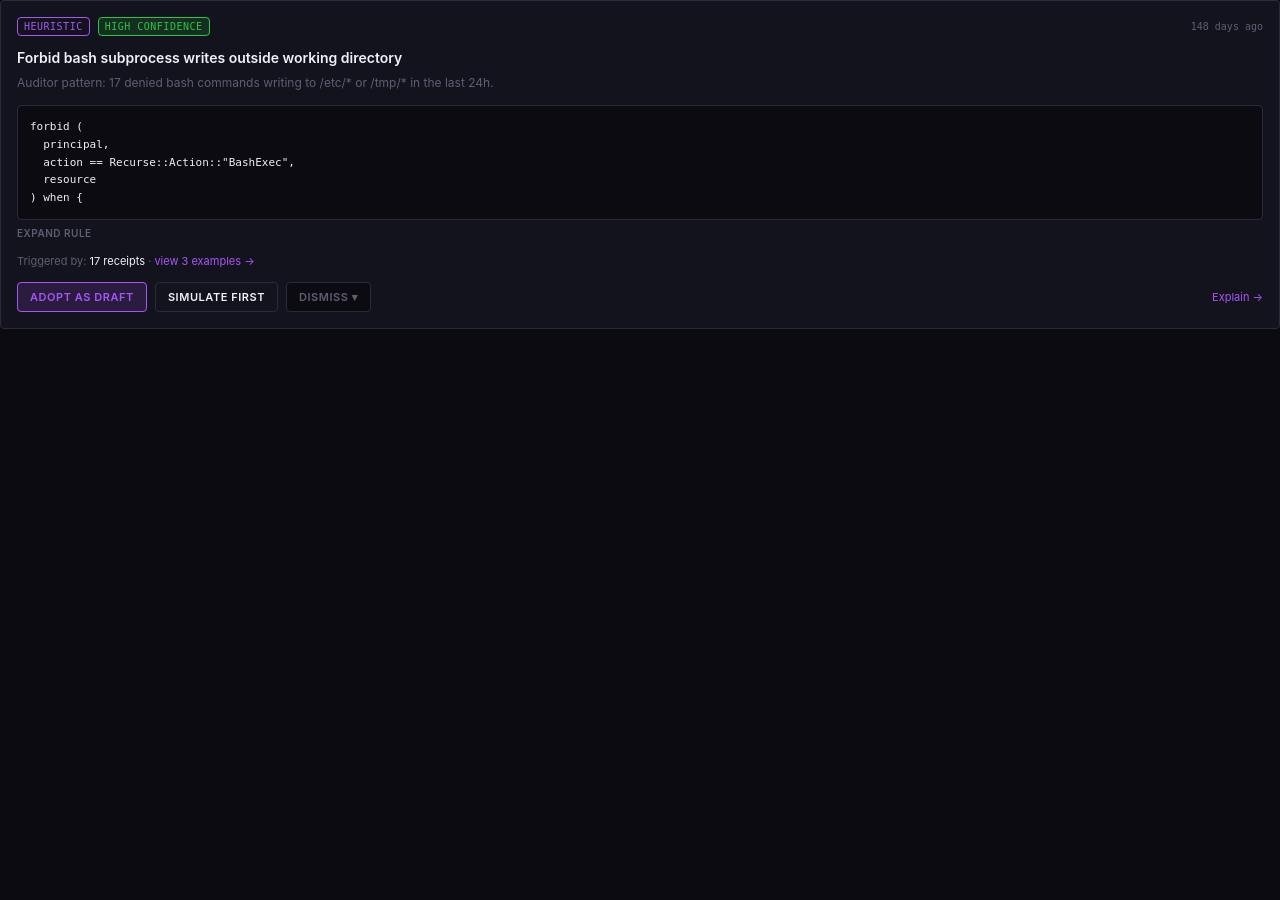
it: SuggestionCard triggered-by › popover closes when Escape is pressed (F004 + F007 keyboard a11y)
Click the button with test id "suggestion-triggered-by-toggle" at (205, 261), box [154,253,255,270]
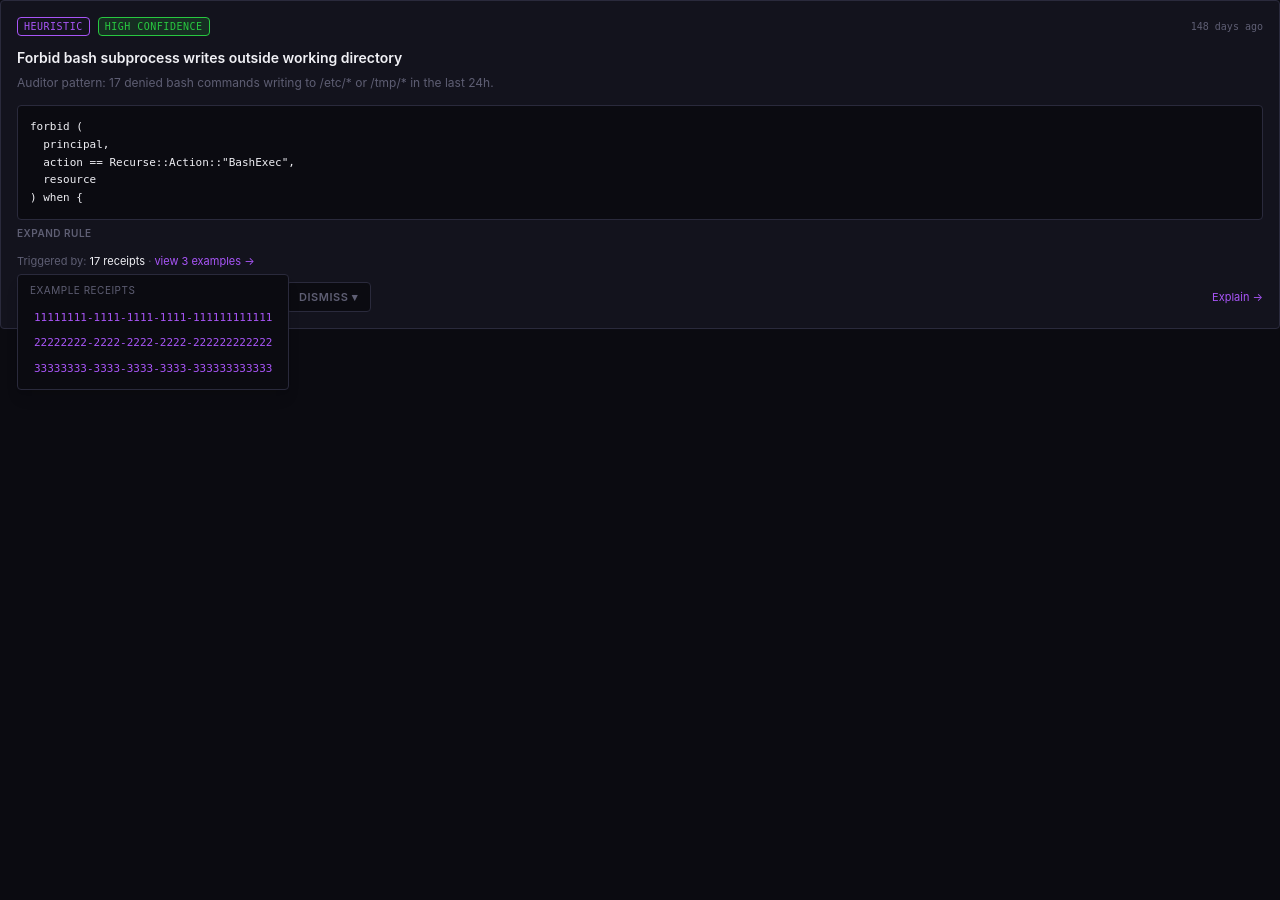
expect the dialog with test id "suggestion-triggered-by-popover" is shown: met, box [17,274,289,390]
Press Escape
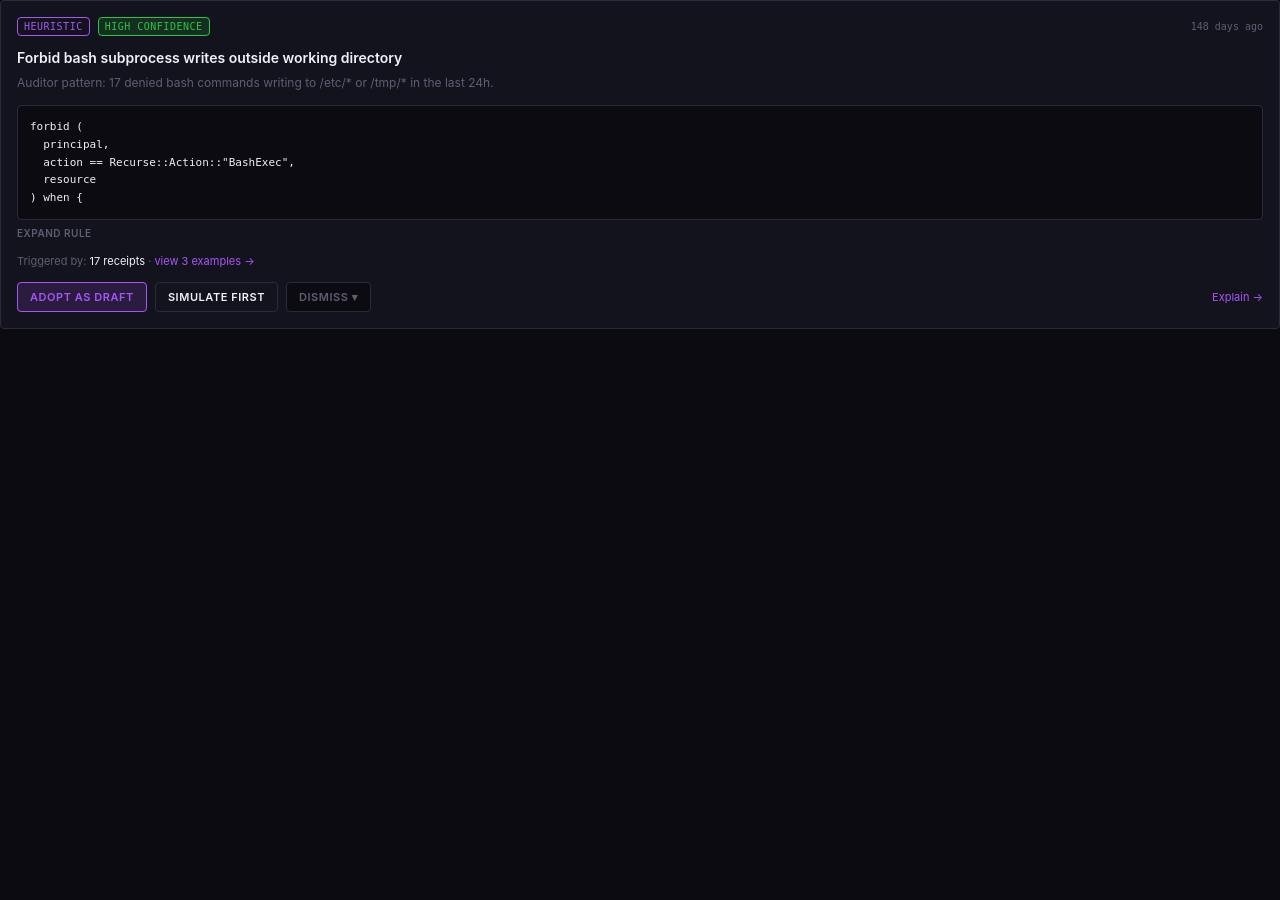
expect the dialog with test id "suggestion-triggered-by-popover" is gone: met
